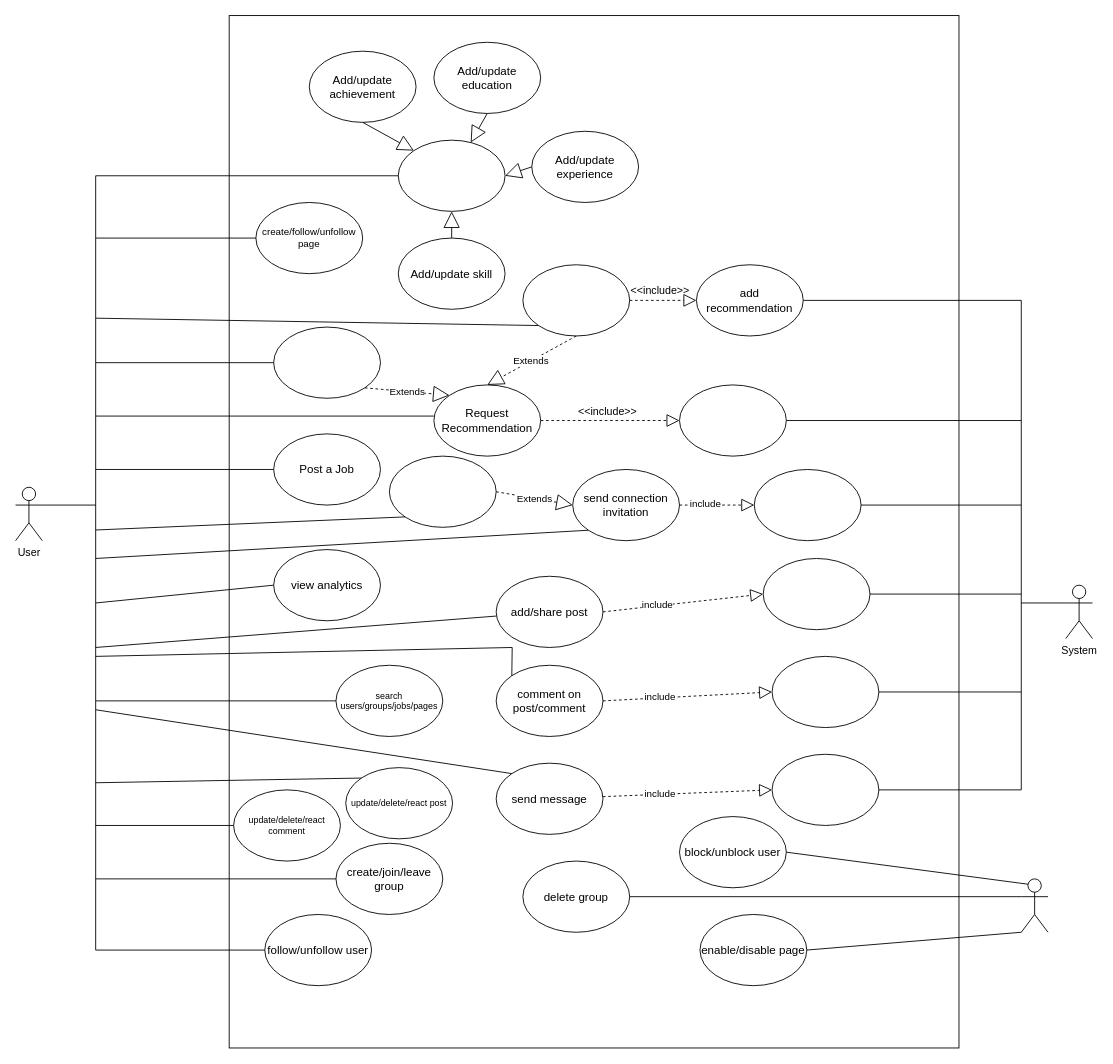
This 1113x1064 diagram has some shape labels left out. Each missing label, with the centre of its shape:
Accept Recommendation: point (576, 300)
accept/ignore connection invitation: point (442, 491)
Add/update profile: point (451, 175)
Admin: point (1034, 905)
connection invitation notification: point (807, 505)
Delete recommendation: point (326, 362)
message notif.: point (825, 789)
new comment notif.: point (825, 691)
new post notification: point (816, 594)
recommendation notification: point (732, 420)
